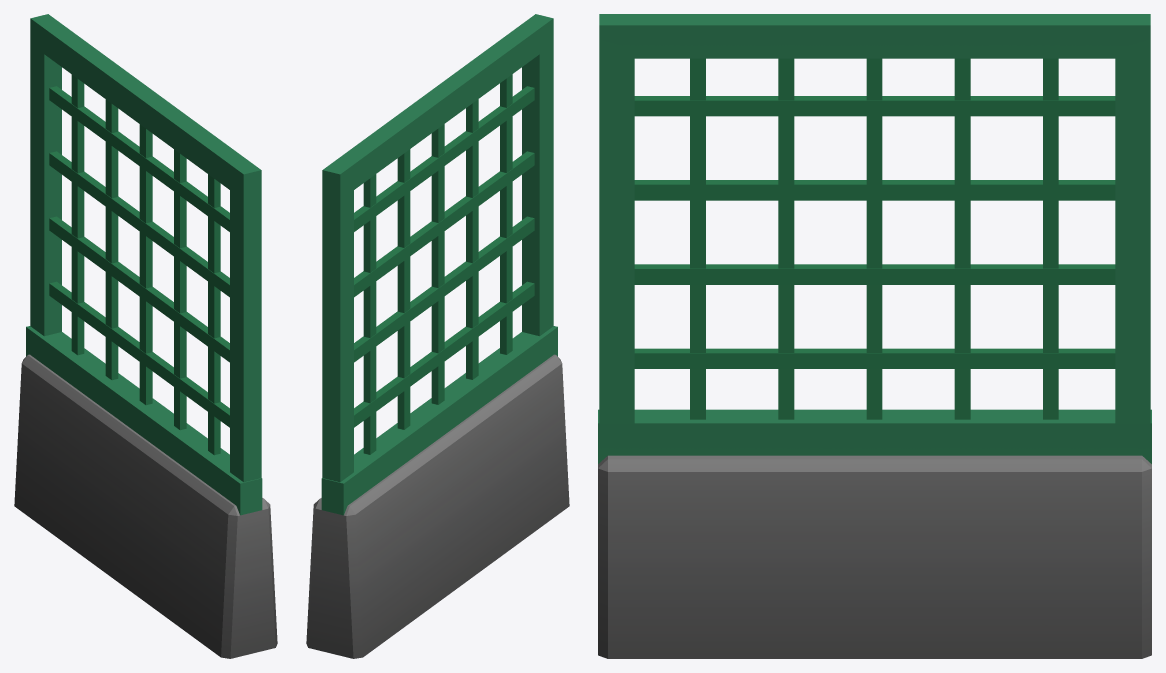
File: Fence_1_B_5.glb
3 views of the same model, side by side, from view 1: azimuth 30°, elevation 25°; view 2: azimuth 150°, elevation 25°; view 3: azimuth 270°, elevation 25° (orthographic). The views are drawn at different scales.
Visible parts, largest first — view 1: Fence_1_B_5; view 2: Fence_1_B_5; view 3: Fence_1_B_5.
Boxes of the visible parts, box(x1,y1,x2,y2) form: Fence_1_B_5: box(14, 14, 277, 658); Fence_1_B_5: box(306, 14, 569, 658); Fence_1_B_5: box(598, 14, 1151, 658).
Size of the model in its own units: 0.3052 by 2.48 by 2.
2 materials, 2 textured.
